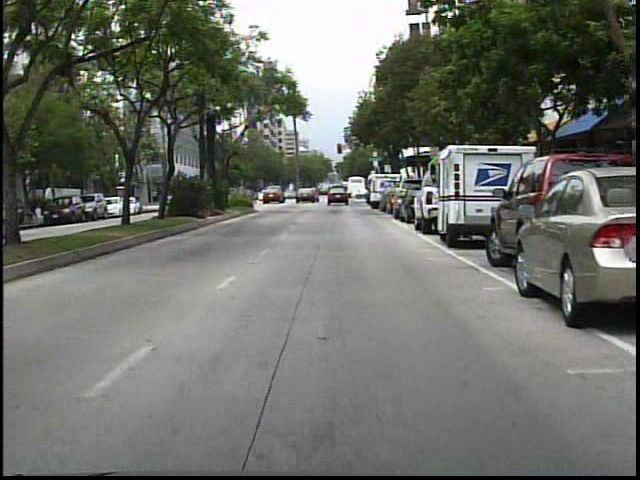person: (323, 183, 336, 203), (294, 183, 297, 202)
